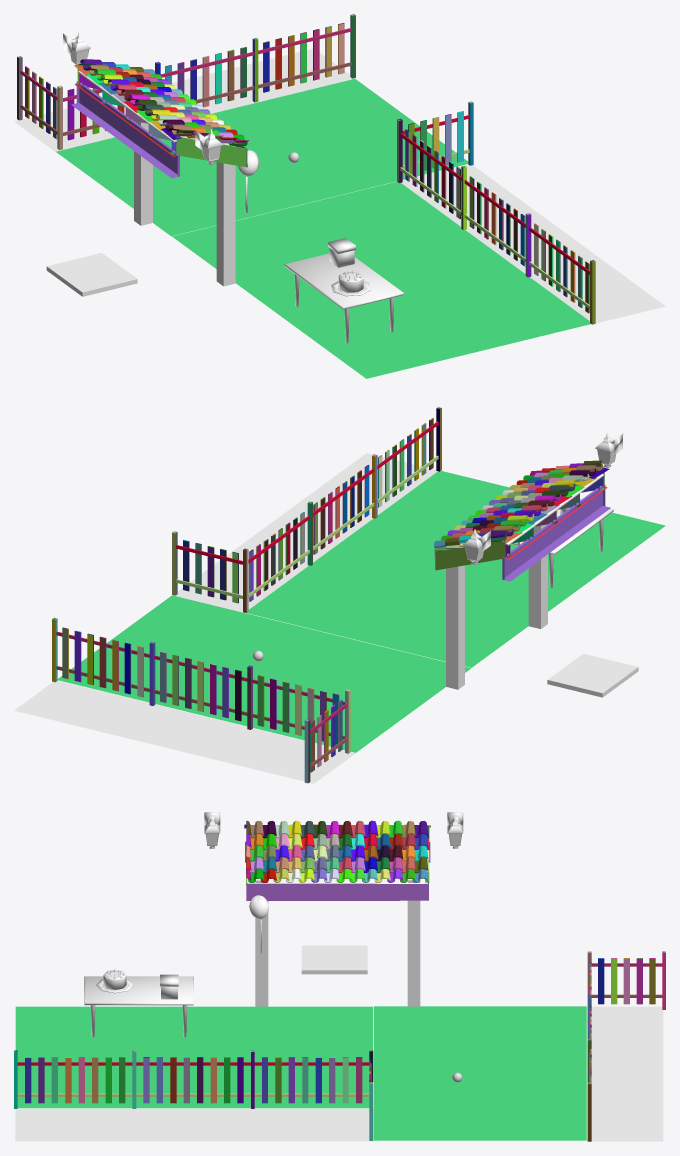
File: escena 6_exterior.fbx
The picture shows the model from 3 angles, top to bottom: view 1: azimuth 30°, elevation 25°; view 2: azimuth 150°, elevation 25°; view 3: azimuth 270°, elevation 25°; orthographic projection. The views are drawn at different scales.
Visible parts, largest first — view 1: jardin_2, piso_afuera_1, barda_2, barda_1, tierra_1, techo_afuera_1, techo_afuera_1.001, tierra_2, mesa_afuera_1, soporte_2, piso_afuera_2, soporte_1 (+3 smaller); view 2: jardin_2, piso_afuera_1, tierra_2, barda_1, barda_2, tierra_1, techo_afuera_1, techo_afuera_1.001, piso_afuera_2, soporte_1, soporte_2, lamparas_1 (+1 smaller); view 3: jardin_2, piso_afuera_1, tierra_1, techo_afuera_1.001, barda_2, tierra_2, techo_afuera_1, barda_1, mesa_afuera_1, piso_afuera_2, soporte_1, soporte_2 (+3 smaller).
Part boxes in pixels (x1,y1,x2,y2): jardin_2: (172,181,590,378); piso_afuera_1: (56,79,468,236); barda_2: (397,101,595,324); barda_1: (17,14,355,149); tierra_1: (401,164,665,323); techo_afuera_1: (71,64,247,178); techo_afuera_1.001: (78,59,248,148); tierra_2: (14,48,355,151); mesa_afuera_1: (284,253,404,343); soporte_2: (216,143,235,286); piso_afuera_2: (46,253,137,296); soporte_1: (134,121,152,225); jardin_2: (247,471,665,667); piso_afuera_1: (57,595,470,752); tierra_2: (14,681,355,783); barda_1: (52,617,350,783); barda_2: (172,407,441,612); tierra_1: (172,453,437,612); techo_afuera_1: (434,467,610,581); techo_afuera_1.001: (434,460,602,551); piso_afuera_2: (547,653,638,697); soporte_1: (446,565,464,689); soporte_2: (528,524,547,628); lamparas_1: (463,432,623,564); jardin_2: (15,1006,373,1108); piso_afuera_1: (374,1006,586,1140); tierra_1: (15,1109,373,1141); techo_afuera_1.001: (246,820,429,883); barda_2: (14,1050,373,1140); tierra_2: (586,1006,663,1141); techo_afuera_1: (244,824,430,900); barda_1: (587,951,665,1141); mesa_afuera_1: (84,976,193,1037); piso_afuera_2: (301,945,367,974); soporte_1: (407,879,420,1006); soporte_2: (255,878,268,1006).
Size of the model in its own units: 721 by 295 by 1032.
